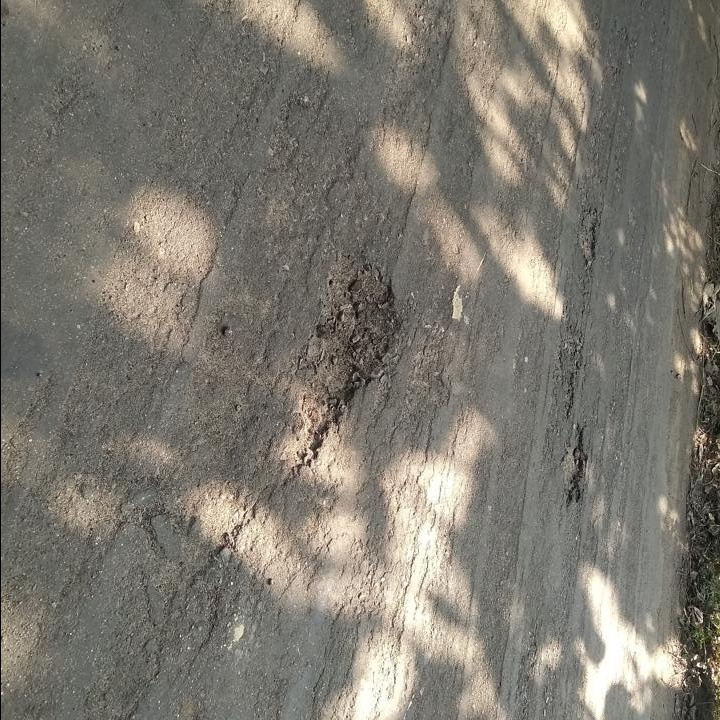pothole: (280, 249, 402, 474), (557, 420, 591, 507), (576, 200, 601, 272)
